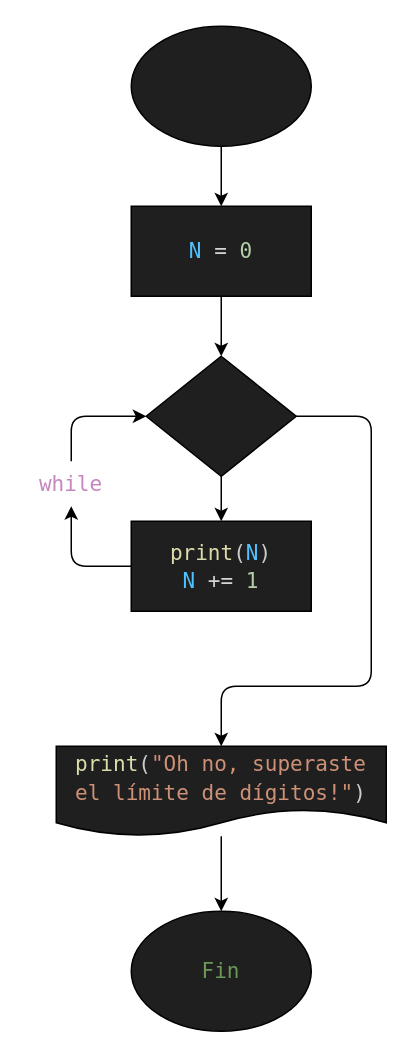
This 413x1058 diagram has some shape labels left out. The shapes that lost their labels are listed below. From the top down, each one's box as (x1, y1, x2, y2) in pixels, then its label:
(130, 25, 311, 146): Inicio
(145, 355, 296, 476): N <= 100
